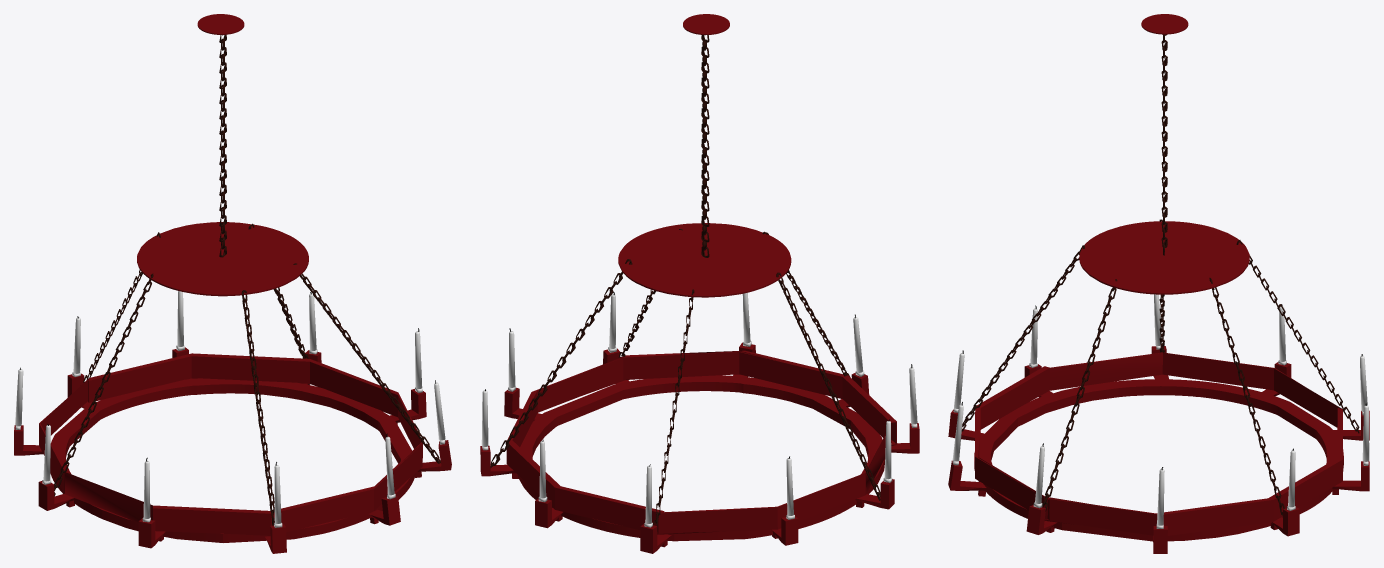
The model's file is Chandelier.fbx.
3 renders of one model, left to right at view 1: azimuth 30°, elevation 25°; view 2: azimuth 150°, elevation 25°; view 3: azimuth 270°, elevation 25°, orthographic.
Parts seen in each view (by area): view 1: Avize; view 2: Avize; view 3: Avize.
Boxes of the visible parts, x1,y1,x2,y2 form: Avize: (14, 14, 451, 553); Avize: (480, 14, 919, 553); Avize: (948, 14, 1369, 553).
Size of the model in its own units: 365 by 408 by 352.
